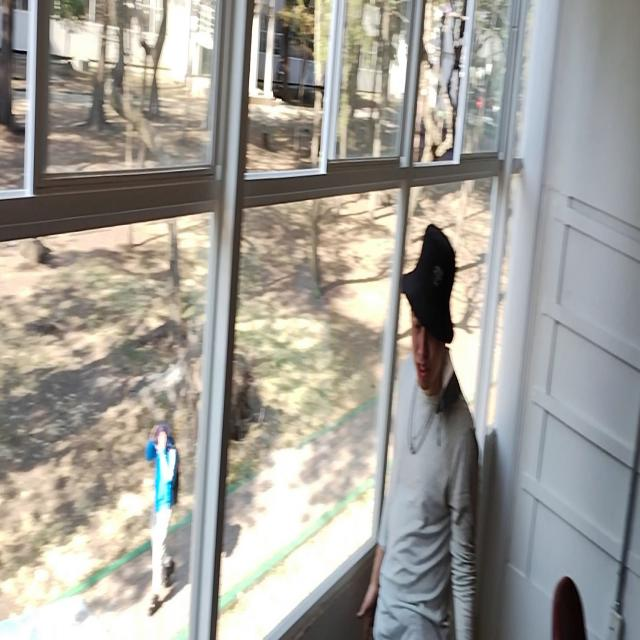adult: (356, 220, 478, 640), (142, 420, 176, 620)
